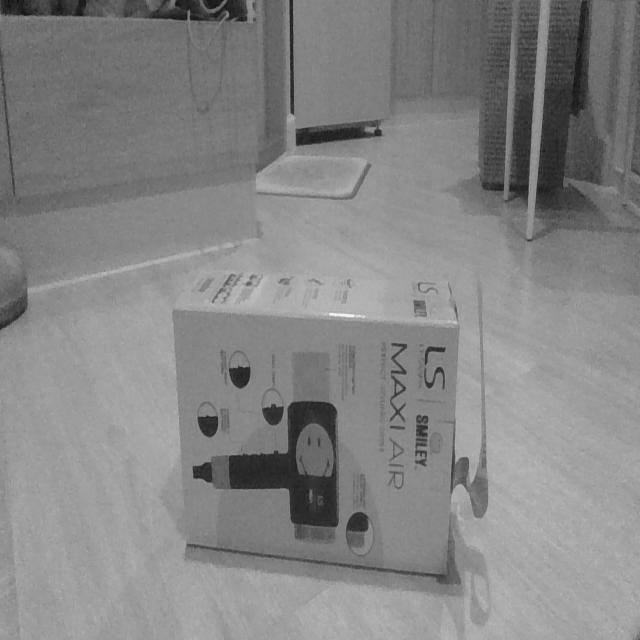IRON: (170, 265, 462, 584)
